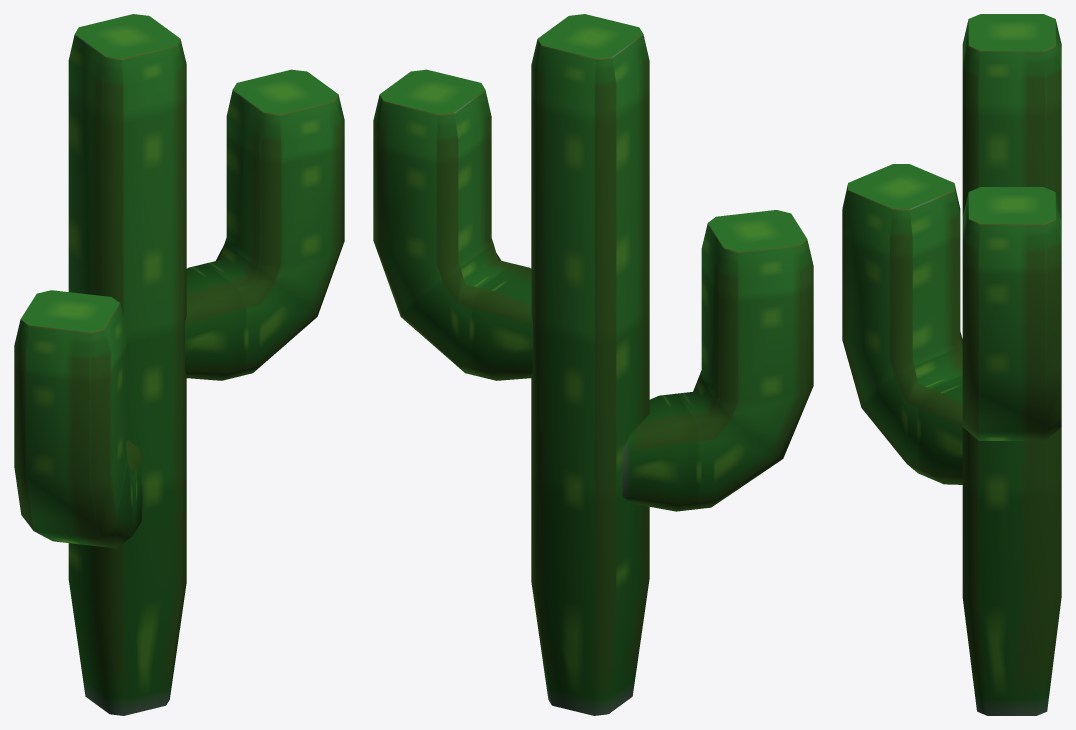
The model's file is cactus_v059.fbx.
The picture shows the model from 3 angles, left to right: view 1: azimuth 30°, elevation 25°; view 2: azimuth 150°, elevation 25°; view 3: azimuth 270°, elevation 25°; orthographic projection.
Visible parts, largest first — view 1: cactus_v059; view 2: cactus_v059; view 3: cactus_v059.
Part boxes in pixels (x1,y1,x2,y2): cactus_v059: [14, 14, 344, 715]; cactus_v059: [373, 14, 813, 715]; cactus_v059: [842, 14, 1061, 715].
Size of the model in its own units: 175 by 305 by 90.62.
